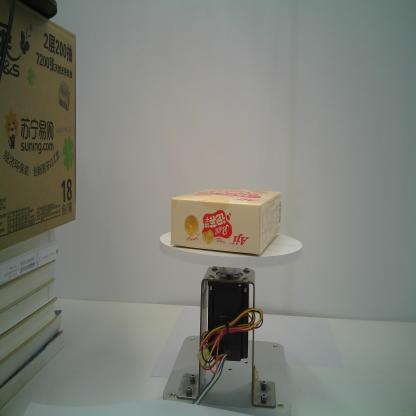Dessert: (171, 189, 282, 255)
